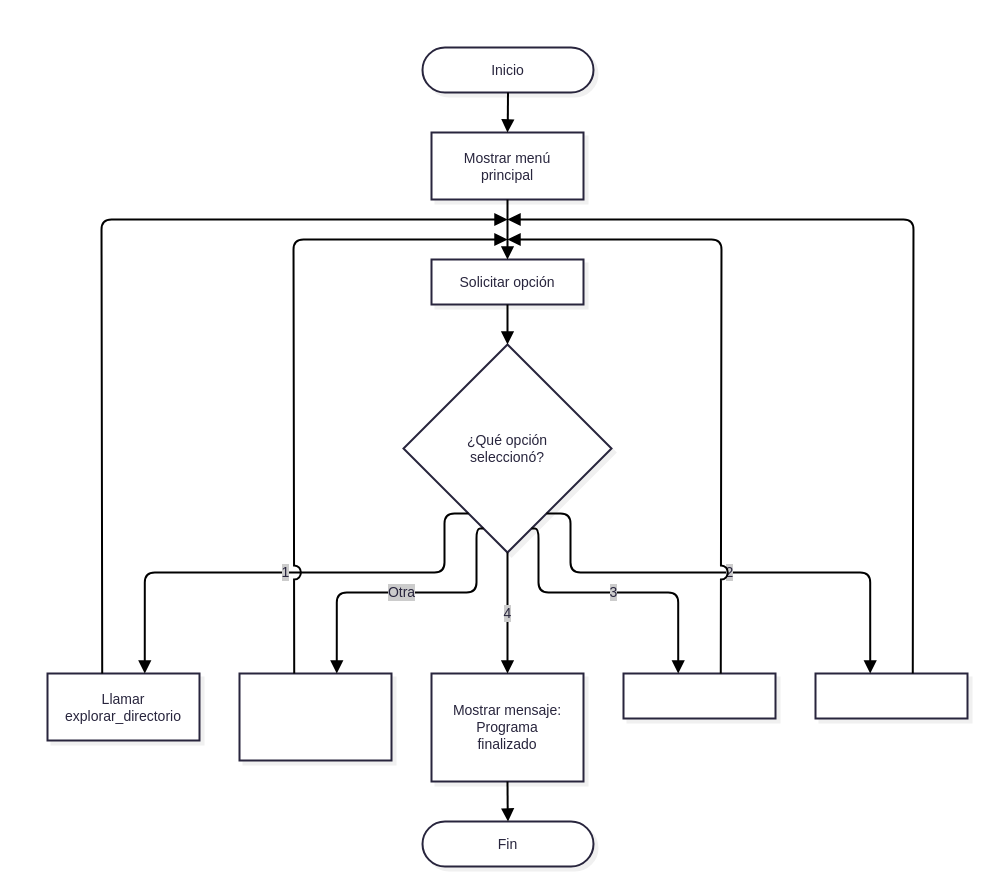
Some shapes in this 989 by 888 pixel diagram are drawn without their labels. Here are the shapes that lost their labels. From the top down, the centre of each, then its label:
(x=701, y=697): Llamar menu_csv
(x=893, y=697): Llamar menu_txt
(x=317, y=718): Mostrar mensaje: Opción inválida
